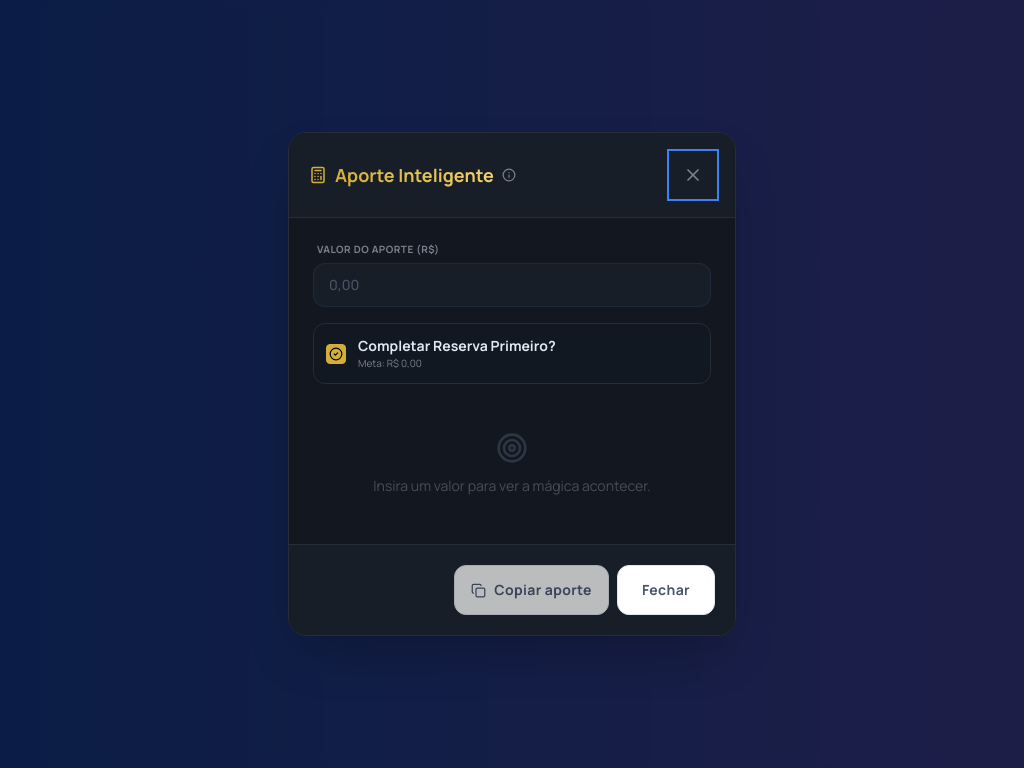
it: SmartContributionModal — copiar para texto › copia o plano com classes, linhas-filhas e total
This screenshot has width=1024, height=768.
In the number field labelled "Valor do Aporte (R$)": (512, 285) 313,263 -> 711,307, type "1000"
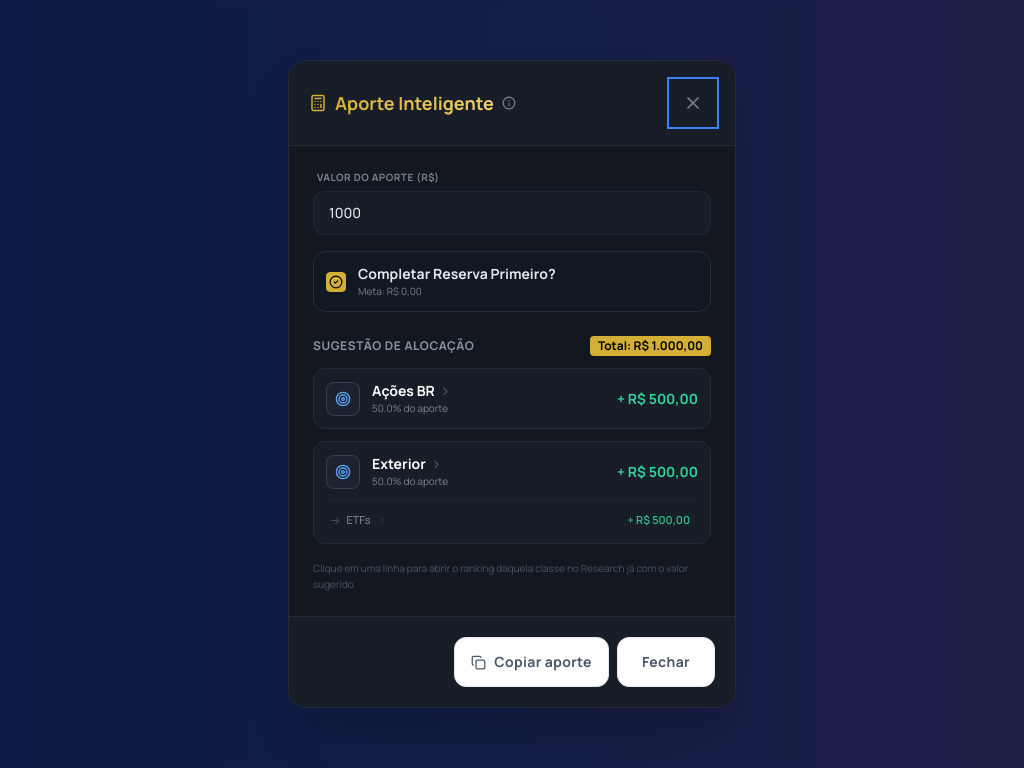
Click the button "Copiar aporte": (532, 662) 454,637 -> 609,687
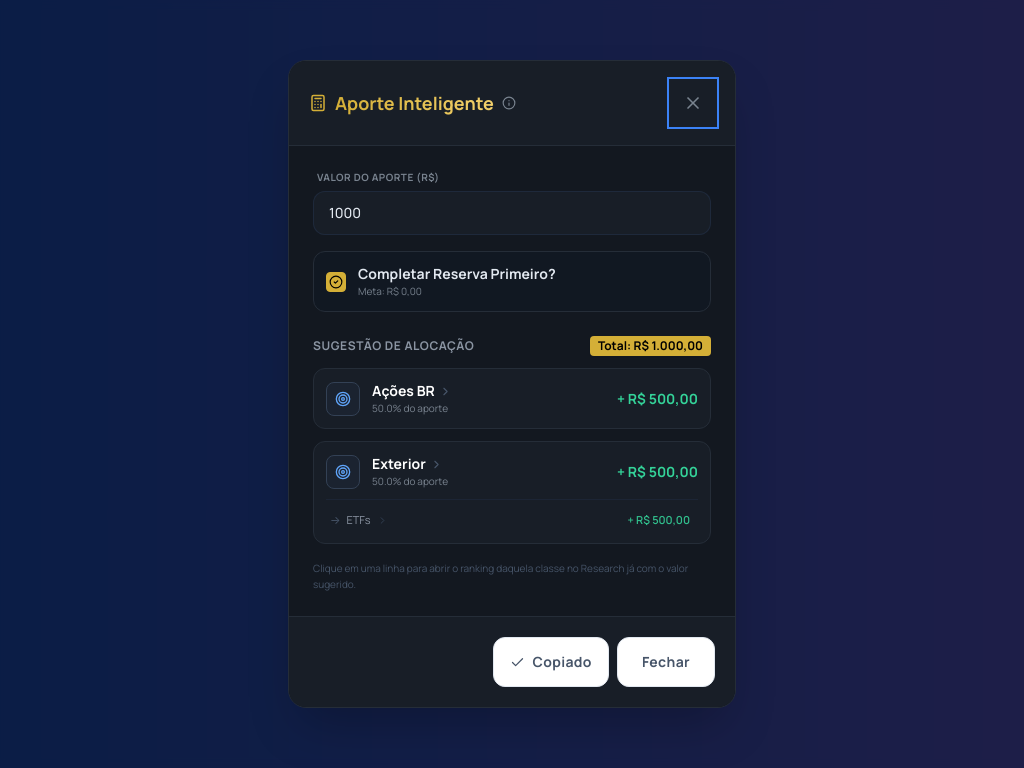
Now the button "Copiado" is shown, box 492,637 -> 609,687
